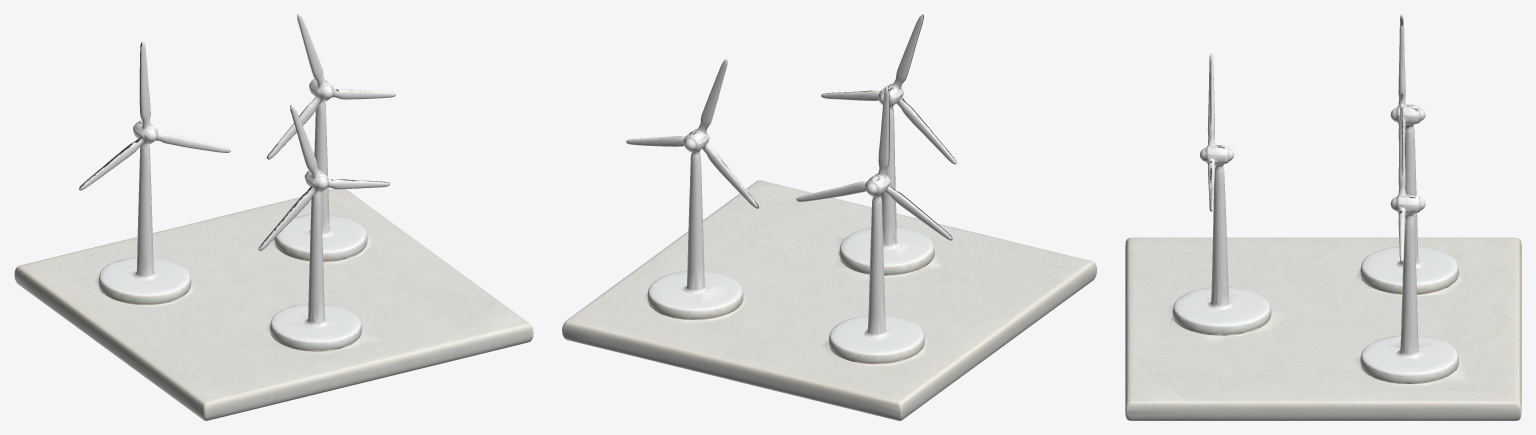
File: windfarm.glb
3 views of the same model, side by side, from view 1: azimuth 30°, elevation 25°; view 2: azimuth 150°, elevation 25°; view 3: azimuth 270°, elevation 25° (orthographic). The views are drawn at different scales.
Visible parts, largest first — view 1: windfarm; view 2: windfarm; view 3: windfarm.
Part boxes in pixels (x1=…): windfarm: x1=14, y1=14, x2=533, y2=420; windfarm: x1=562, y1=14, x2=1096, y2=420; windfarm: x1=1125, y1=14, x2=1521, y2=420.
Bounding box in the file's own units: 0.999 × 0.7732 × 1.
Materials: 1 (1 with a texture image).
